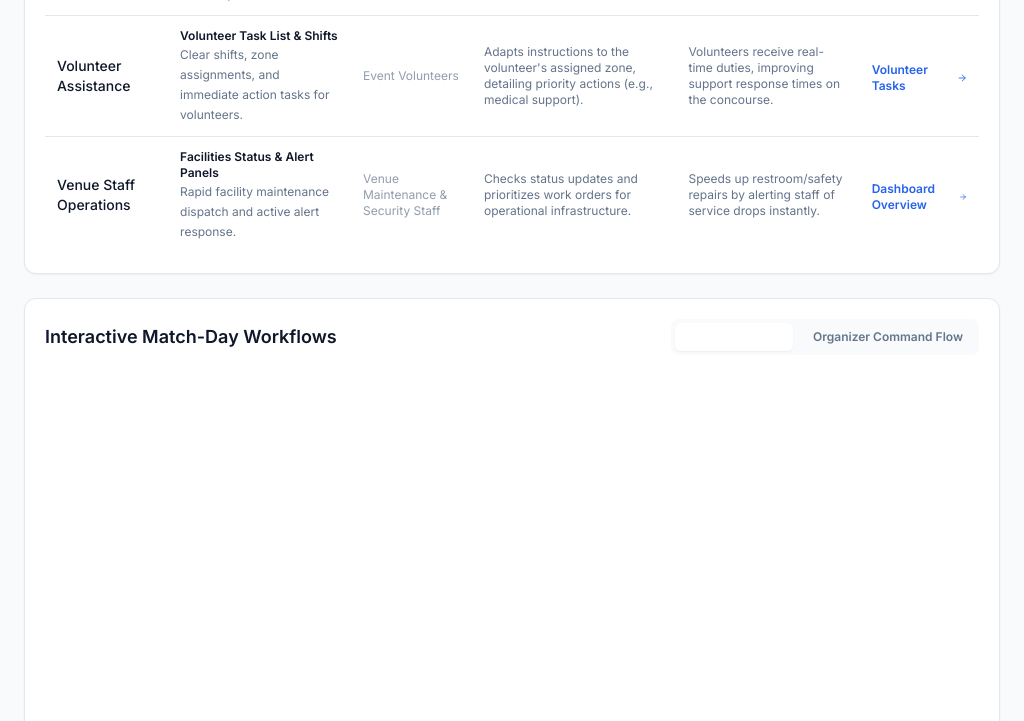
ChallengeAlignmentPage Component › toggles interactive workflows when tab buttons are clicked
(page scrolled)
Click organizer tab
Click the tab "Organizer Command Flow".
click(888, 337)  # box left=801, top=323, right=975, bottom=351
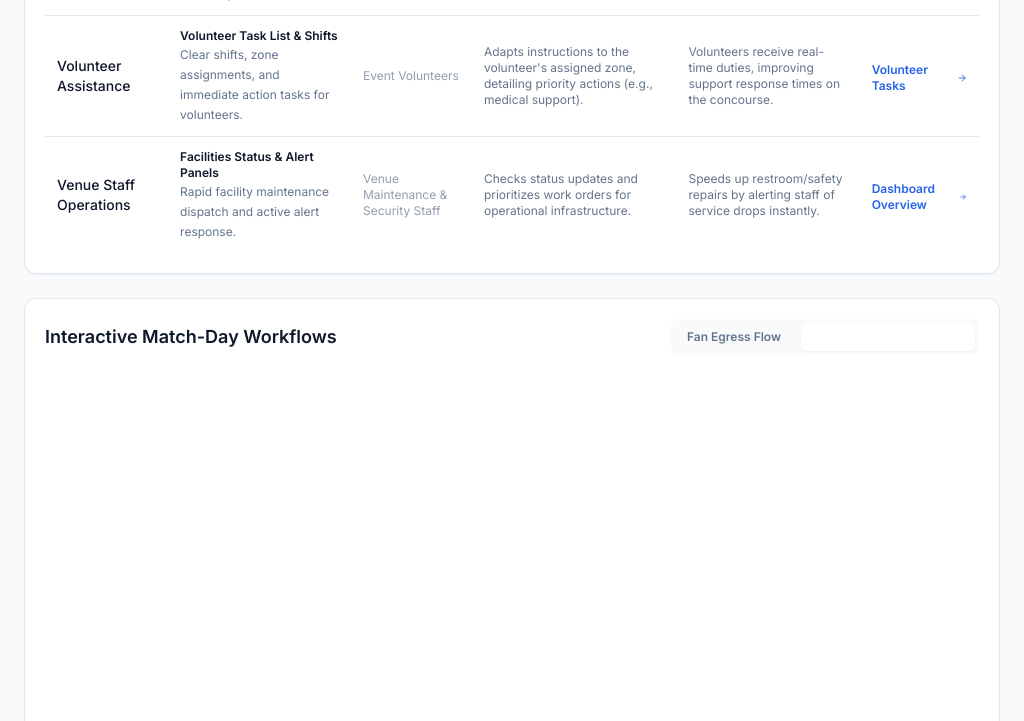
Click fan tab back
Click the tab "Fan Egress Flow".
click(734, 337)  # box left=675, top=323, right=793, bottom=351
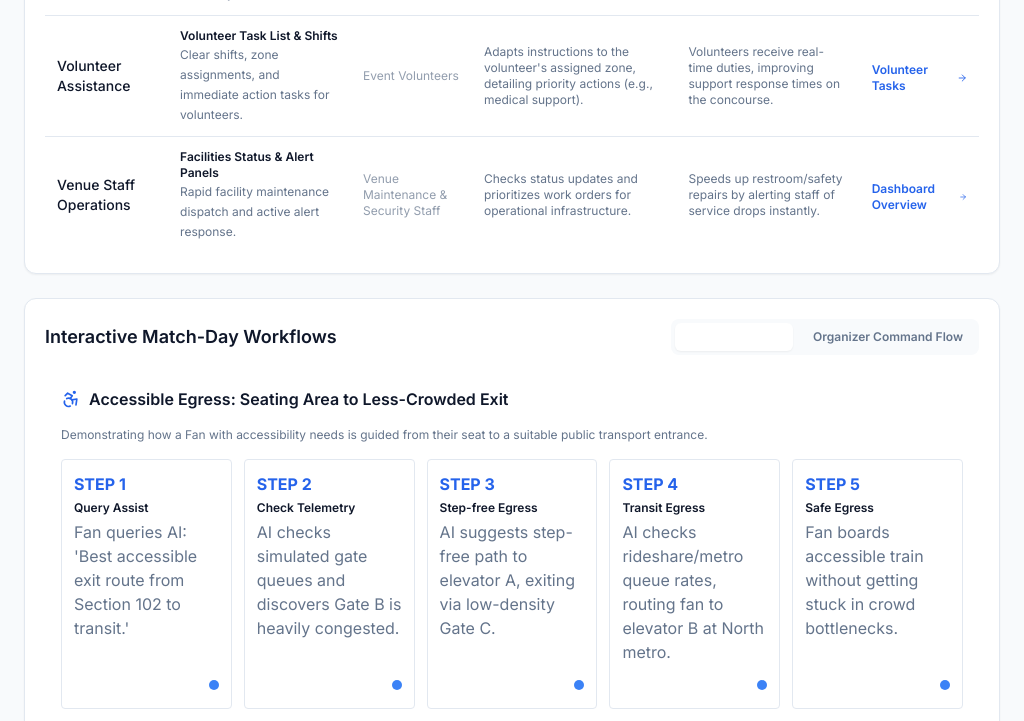
Expected: the heading "Accessible Egress: Seating Area to Less-Crowded Exit" is shown, left=89, top=387, right=508, bottom=411
